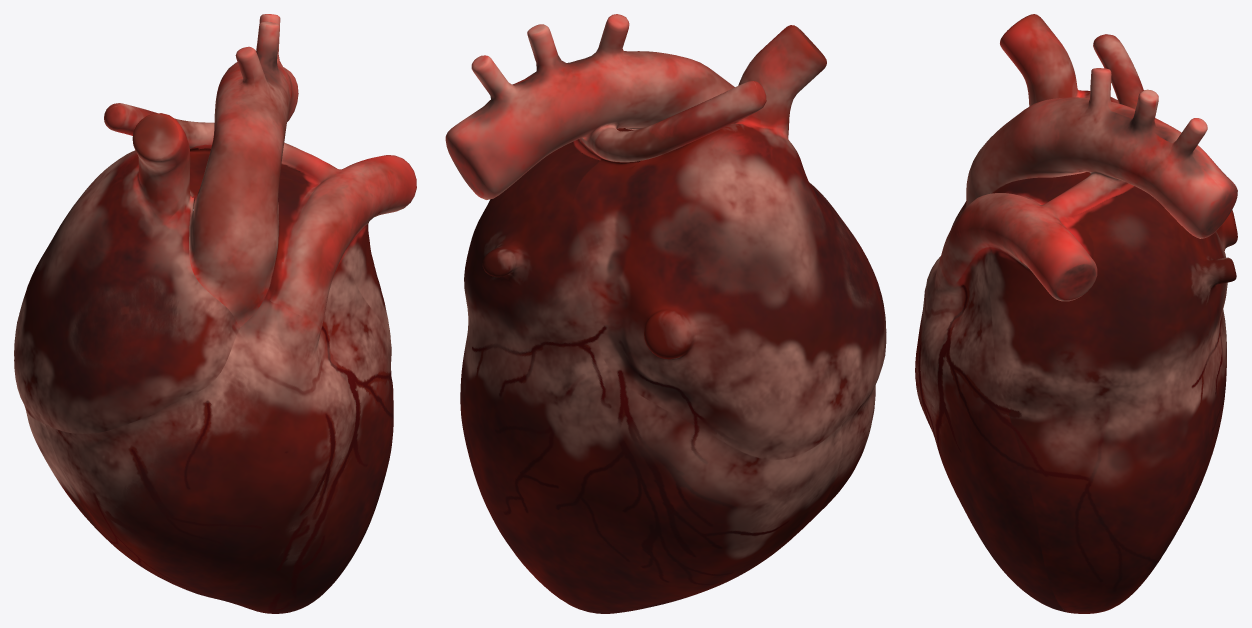
The model's file is heart.glb.
3 views of the same model, side by side, from view 1: azimuth 30°, elevation 25°; view 2: azimuth 150°, elevation 25°; view 3: azimuth 270°, elevation 25° (orthographic). The views are drawn at different scales.
Parts seen in each view (by area): view 1: hartZBrush_defualt_group; view 2: hartZBrush_defualt_group; view 3: hartZBrush_defualt_group.
Part boxes in pixels (x1,y1,x2,y2): hartZBrush_defualt_group: [14, 14, 416, 613]; hartZBrush_defualt_group: [445, 14, 886, 613]; hartZBrush_defualt_group: [915, 14, 1237, 613].
Size of the model in its own units: 622 by 919 by 505.
1 material, 1 textured.
